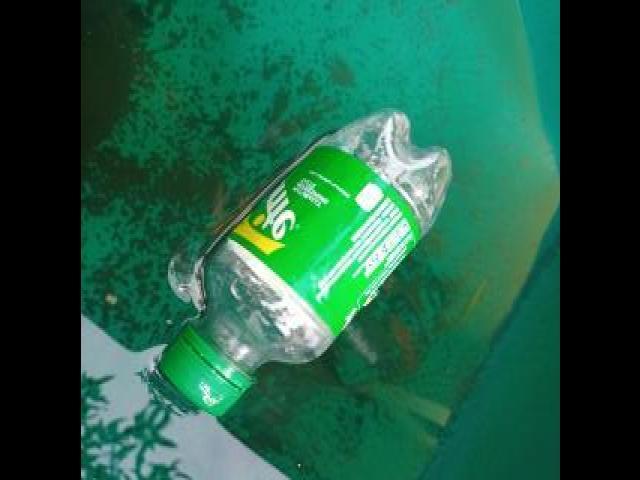Bottle: (151, 103, 458, 425)
